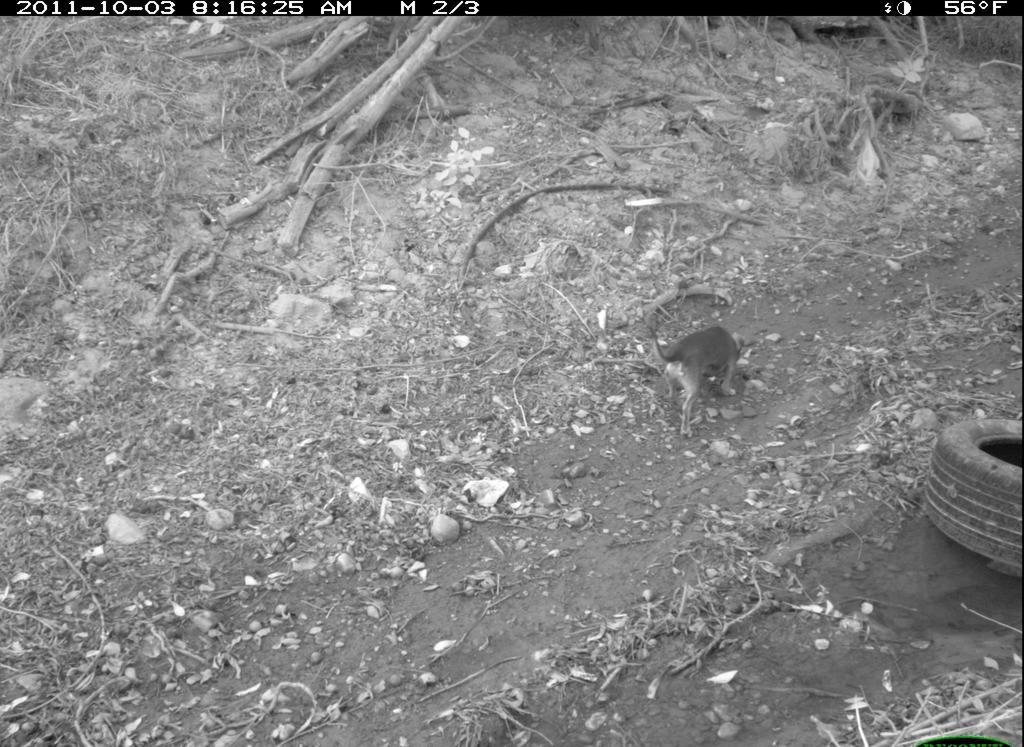dog: (629, 308, 756, 427)
